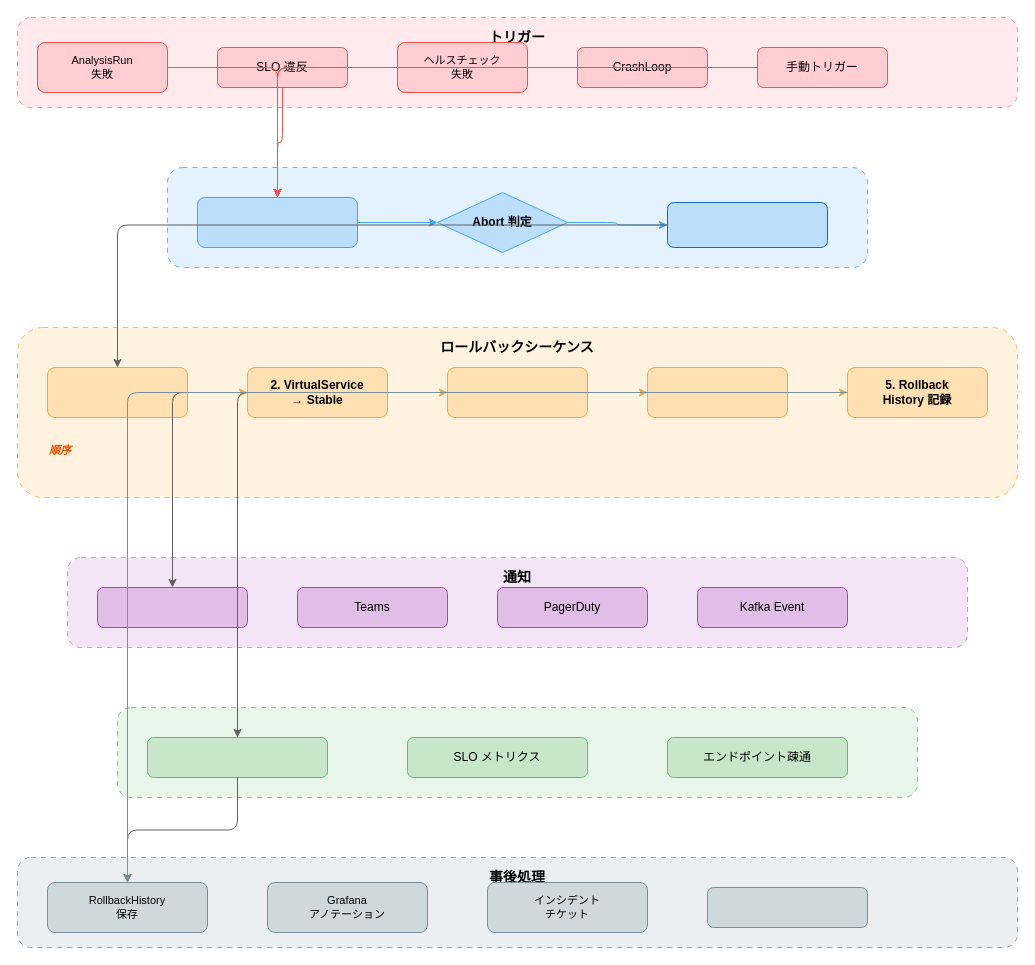
This 1035x965 diagram has some shape labels left out. Each missing label, with the box of its shape:
1. Canary ScaleDown: (46, 366, 188, 418)
3. DestinationRule 更新: (446, 366, 588, 418)
4. Stable 確認: (646, 366, 788, 418)
Argo Controller: (166, 166, 868, 268)
RCA 開始: (706, 886, 868, 928)
Rollback 実行: (666, 202, 828, 248)
Rollout Status 監視: (196, 196, 358, 248)
Slack: (96, 586, 248, 628)
ヘルスチェック: (146, 736, 328, 778)
検証: (116, 706, 918, 798)
